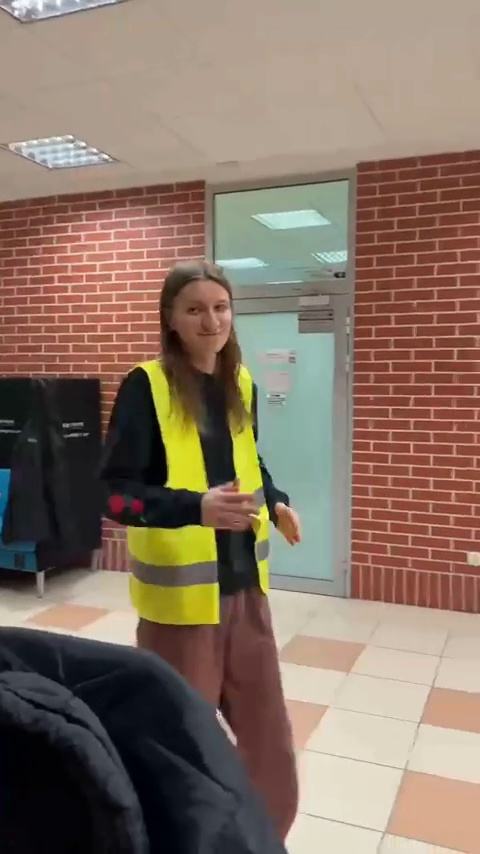vest: (109, 256, 308, 795)
